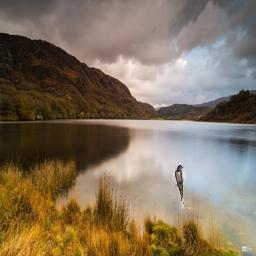Swallow: (175, 165, 184, 210)
